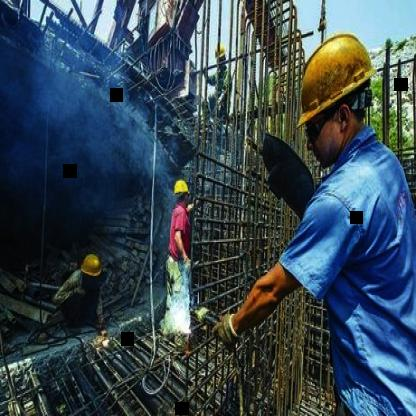helmet: (289, 23, 379, 170), (78, 252, 102, 288), (173, 174, 190, 206), (213, 39, 228, 71)
